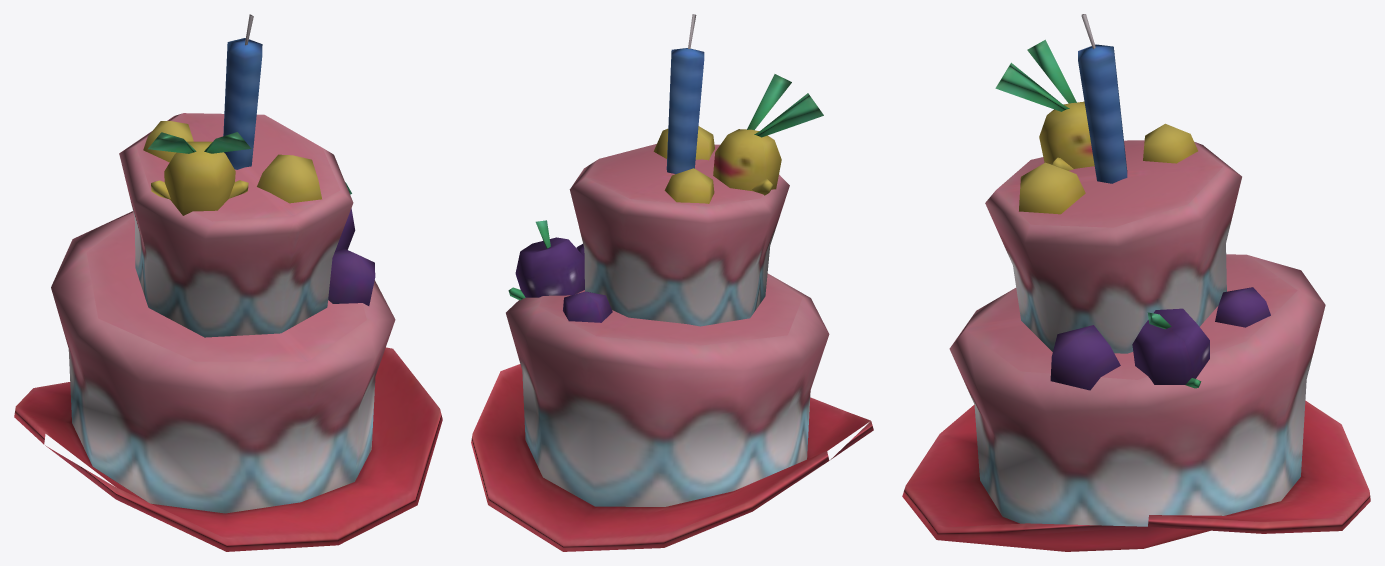
The model's file is cakeHat.glb.
3 views of the same model, side by side, from view 1: azimuth 30°, elevation 25°; view 2: azimuth 150°, elevation 25°; view 3: azimuth 270°, elevation 25° (orthographic). The views are drawn at different scales.
Visible parts, largest first — view 1: cakeHat; view 2: cakeHat; view 3: cakeHat.
Part boxes in pixels (bbox=[...]): cakeHat: bbox=[14, 14, 442, 551]; cakeHat: bbox=[471, 14, 873, 551]; cakeHat: bbox=[902, 14, 1370, 551].
Size of the model in its own units: 0.4983 by 0.6383 by 0.5563.
1 material, 1 textured.
